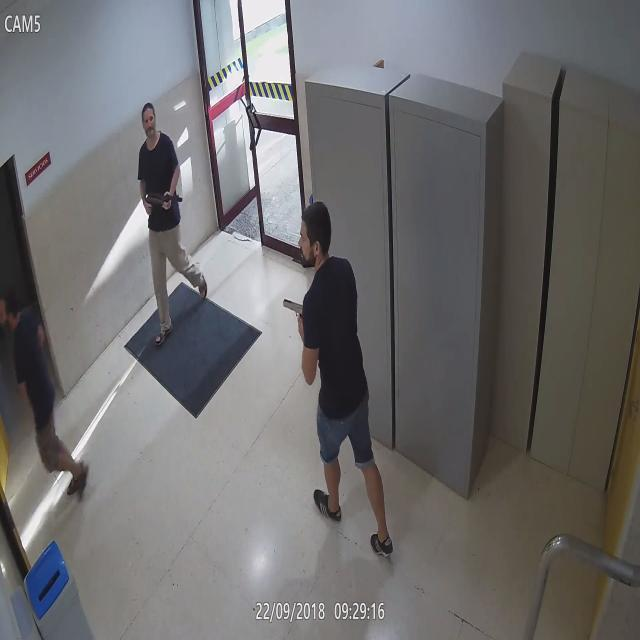Gun: (142, 191, 194, 222), (277, 294, 310, 327)
